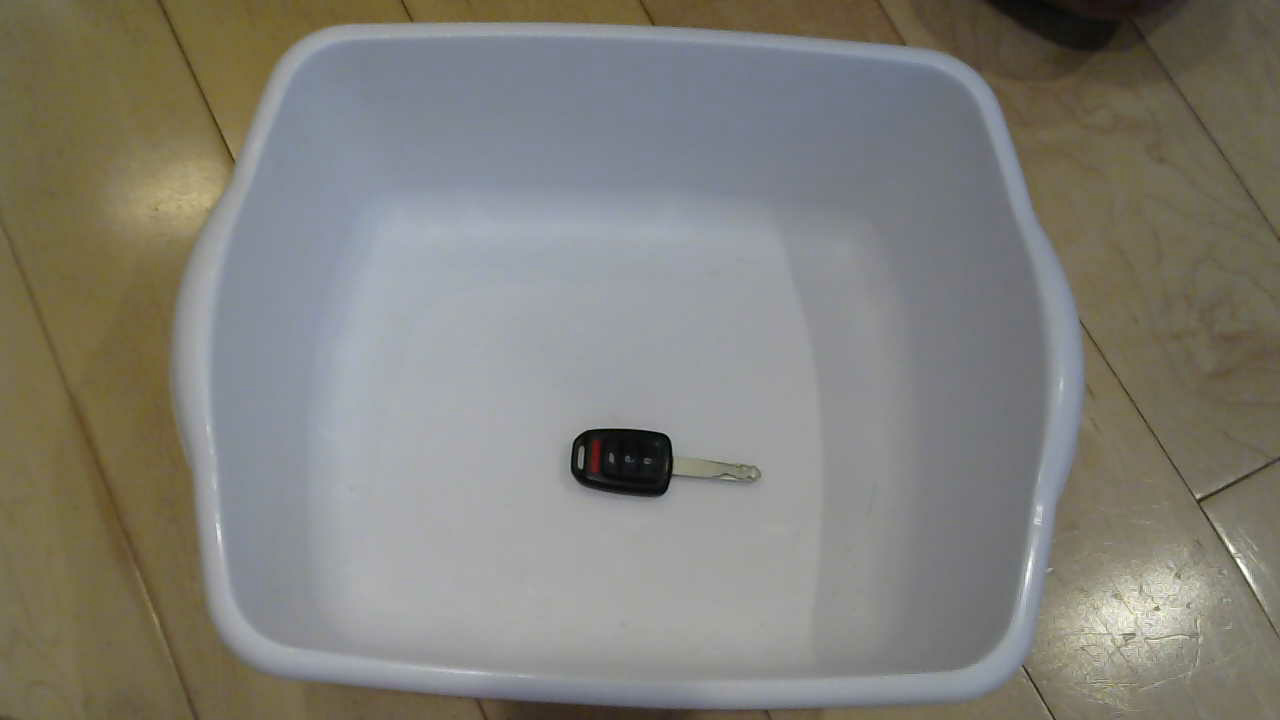key: (553, 427, 779, 523)
